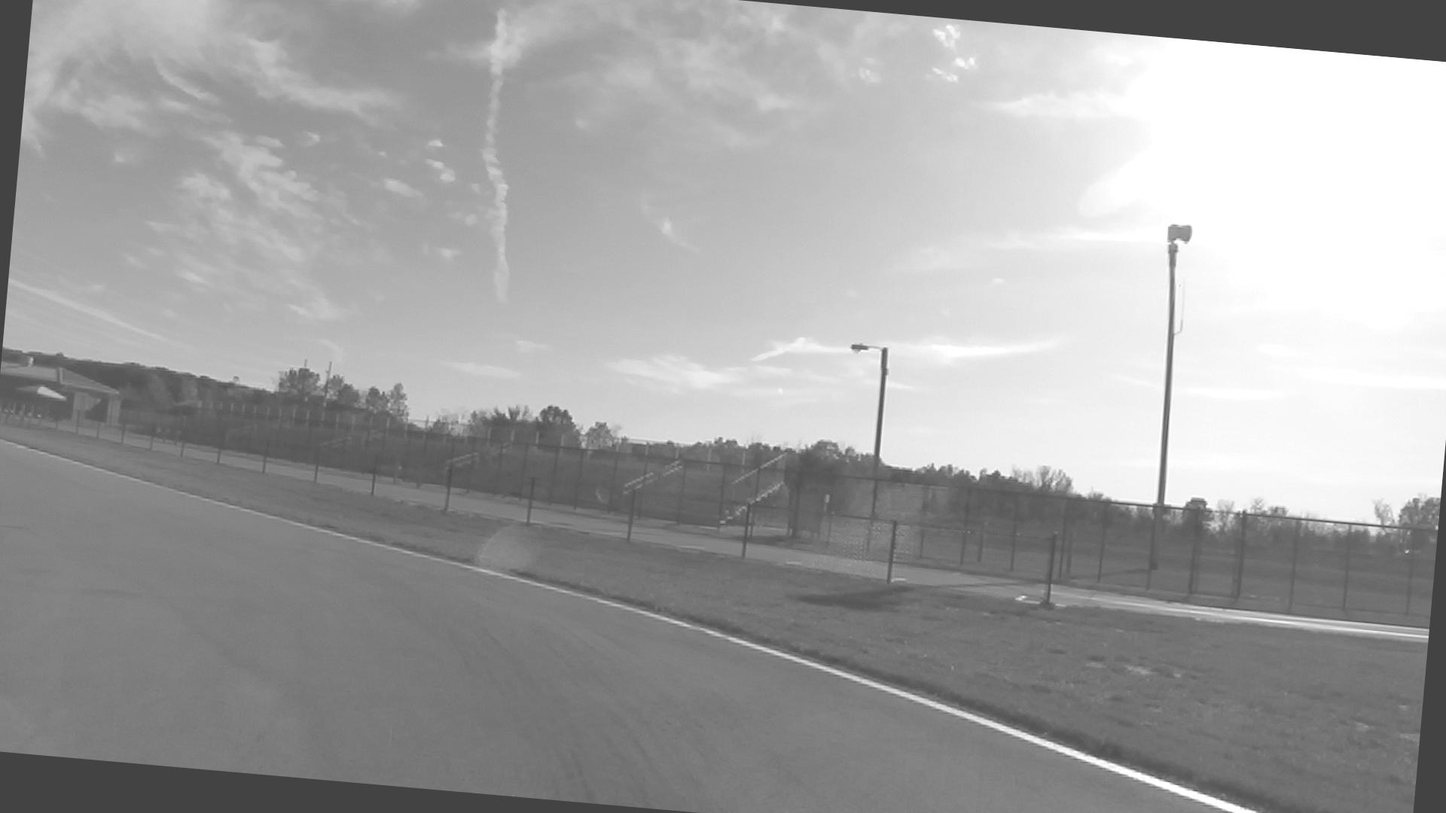white-line: (347, 537, 1267, 813)
